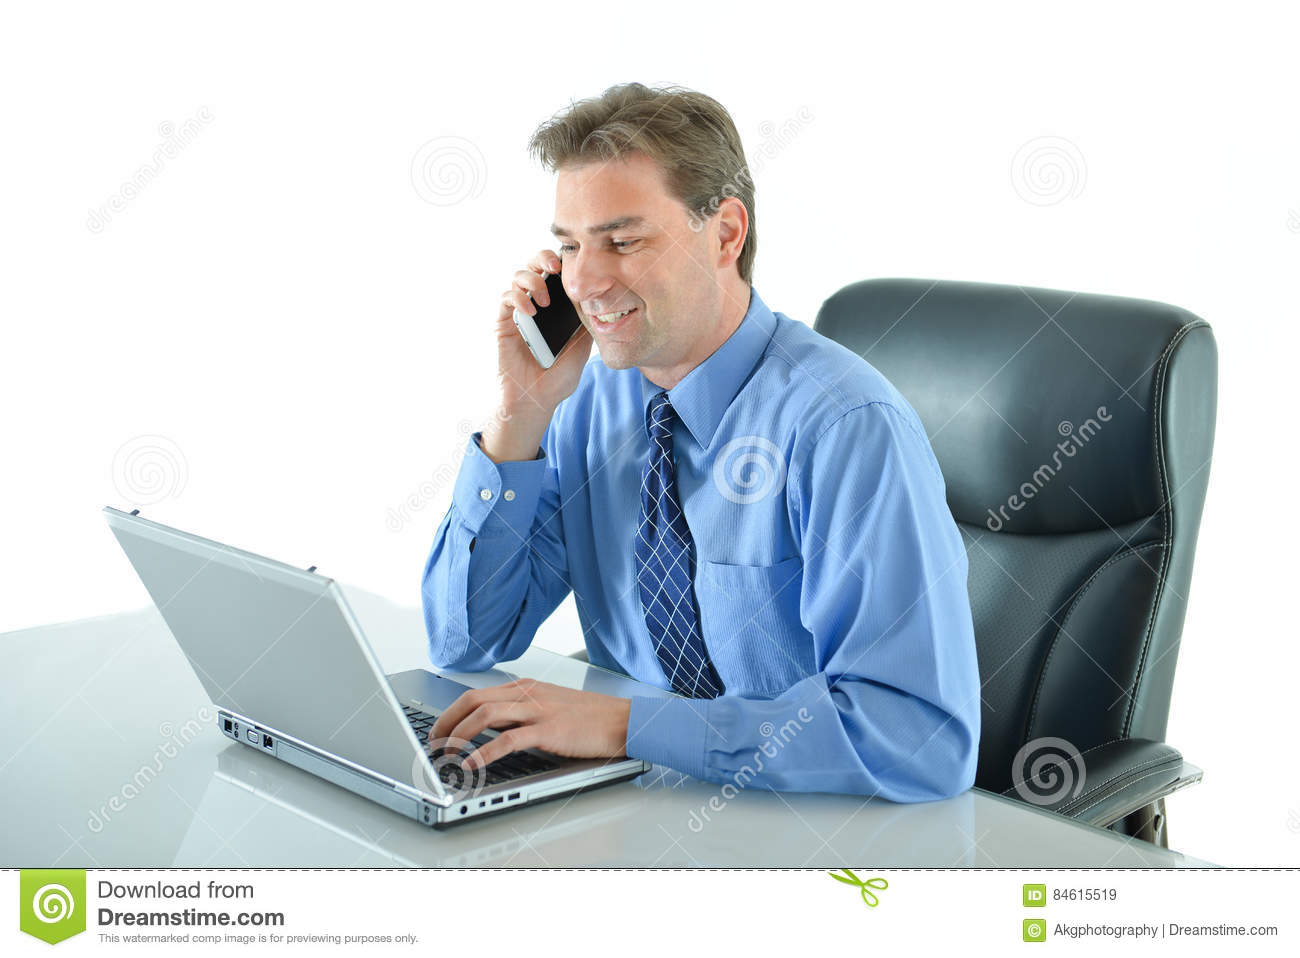phone: (519, 252, 575, 380)
talk: (490, 214, 682, 429)
